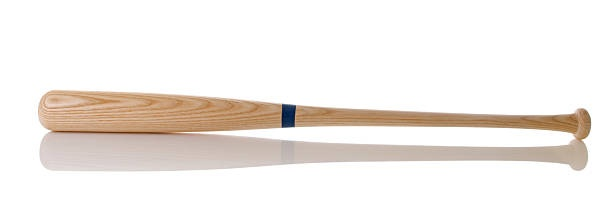bita: (37, 82, 588, 142)
